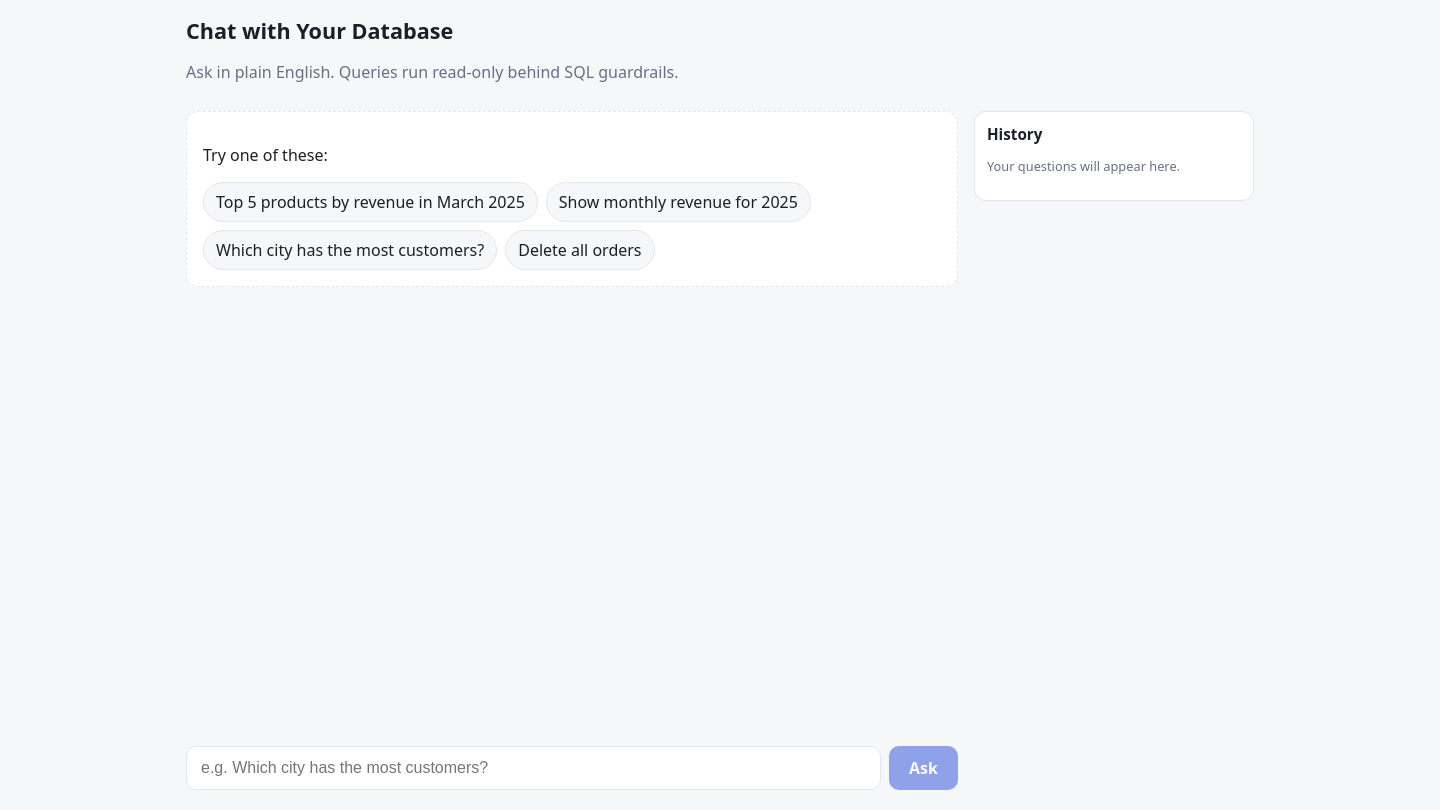
it: App › shows an error message when the gateway fails
Click the button "Which city has the most customers?": (350, 250) [203,230,497,270]
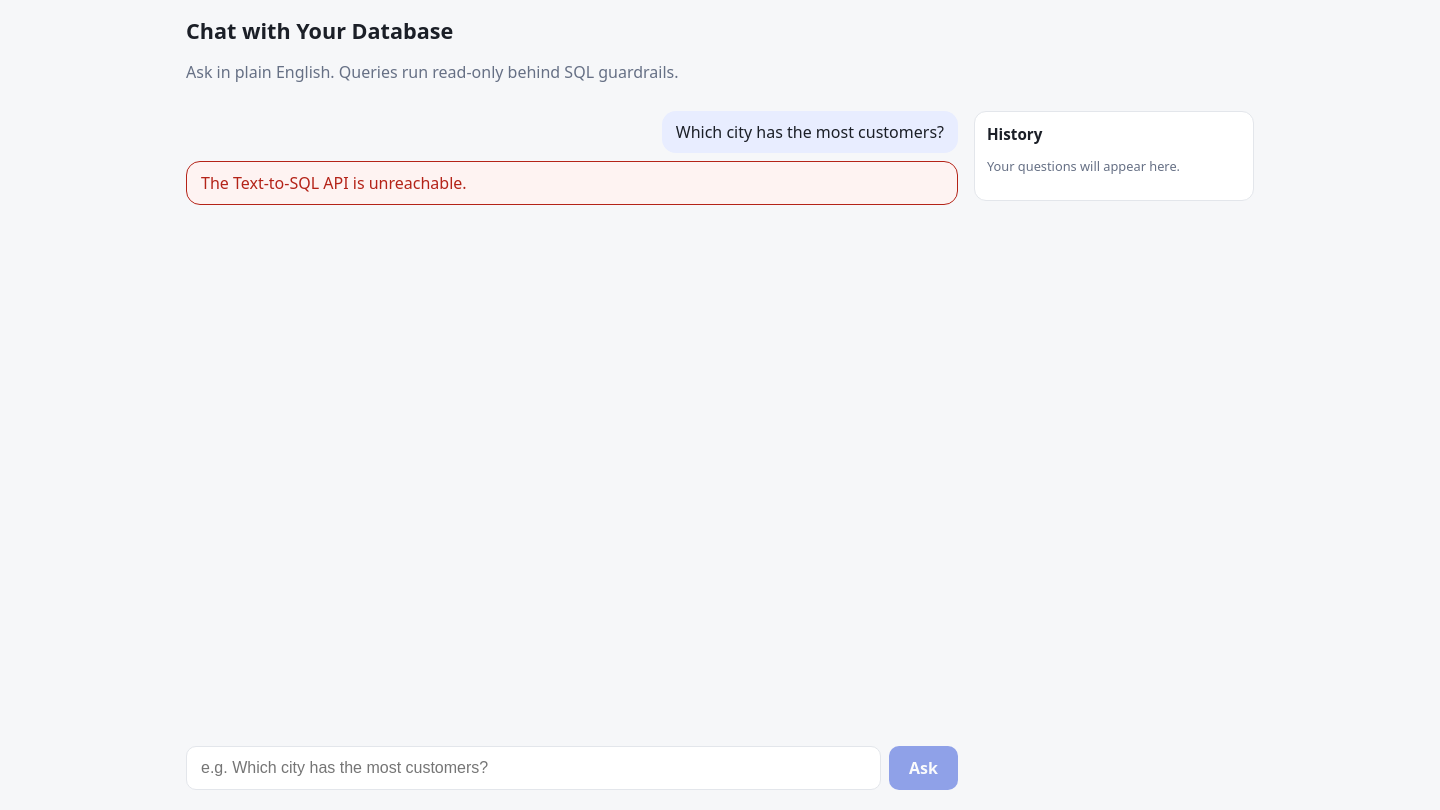
Result: the message shows "unreachable" at [201,172,467,194]
